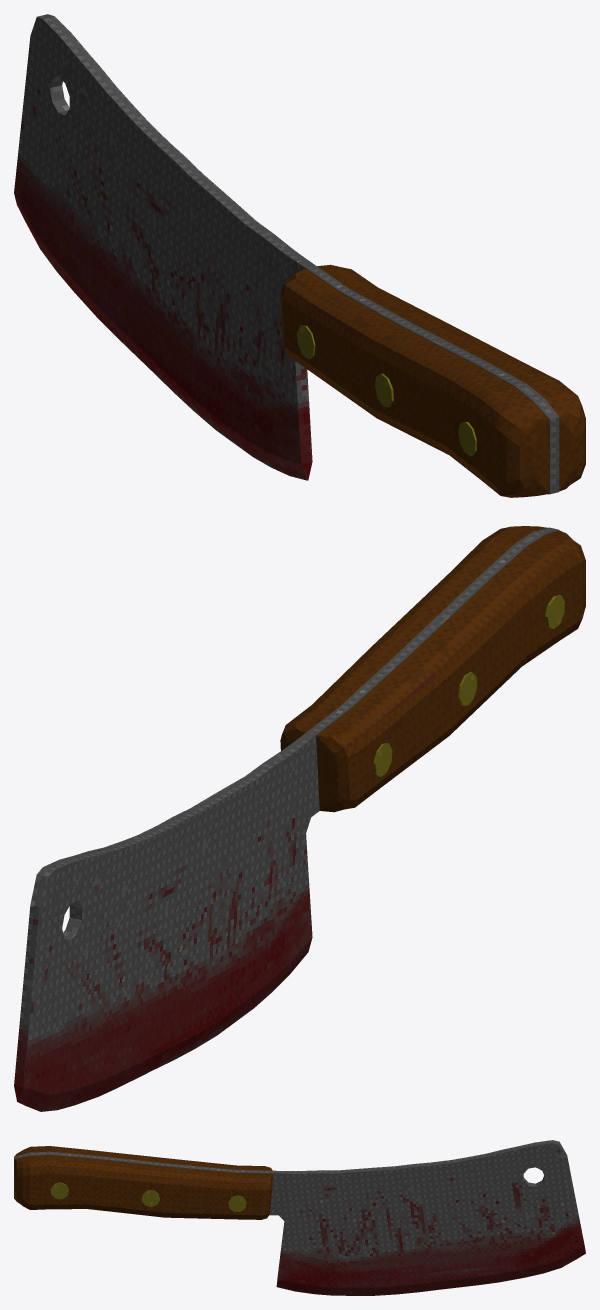
The model's file is cleaver.glb.
The picture shows the model from 3 angles, top to bottom: view 1: azimuth 30°, elevation 25°; view 2: azimuth 150°, elevation 25°; view 3: azimuth 270°, elevation 25°; orthographic projection. The views are drawn at different scales.
Visible parts, largest first — view 1: Cube.002; view 2: Cube.002; view 3: Cube.002.
Part boxes in pixels (x1,y1,x2,y2): Cube.002: (14, 14, 585, 497); Cube.002: (14, 526, 585, 1111); Cube.002: (14, 1140, 585, 1295).
Size of the model in its own units: 0.3534 by 1.09 by 3.67.
Materials: 1 (1 with a texture image).
